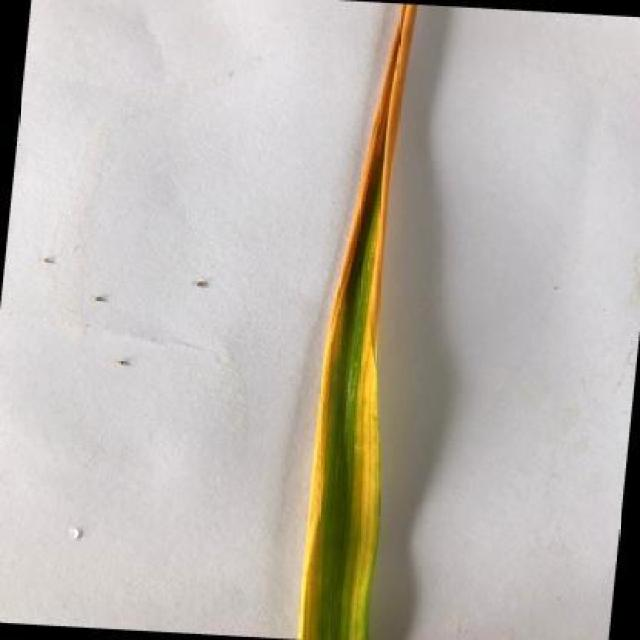Rice False Smut: (298, 5, 417, 640)
